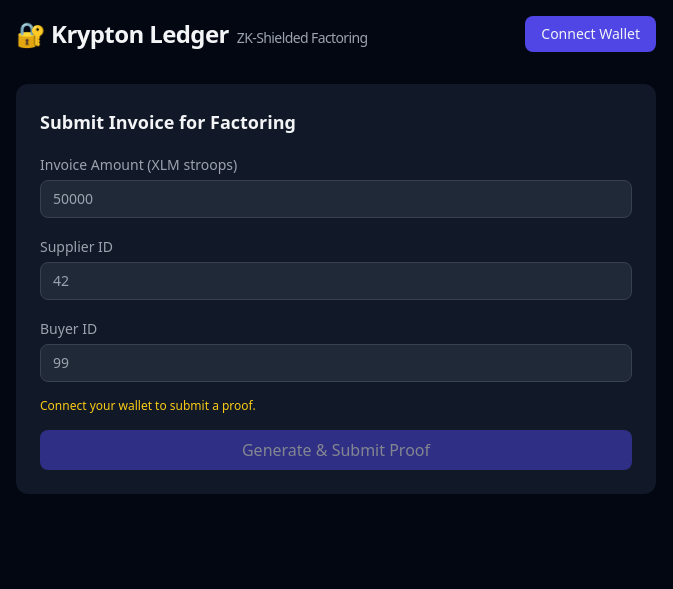
Test: DashboardPage › shows validation error for zero invoice amount
Click the button "Connect Wallet": [591, 34] box [525, 16, 656, 52]
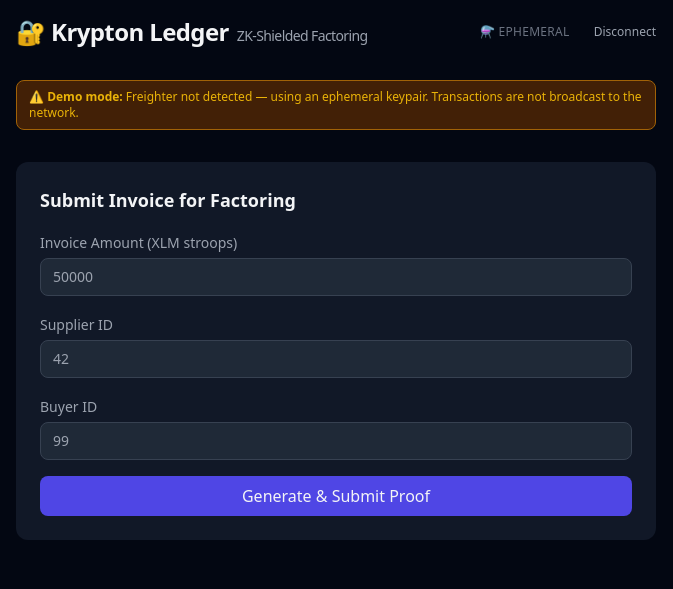
Now the button "Disconnect" is shown, box [594, 24, 656, 40]
In the field labelled "Invoice Amount (XLM stroops)": [336, 277] box [40, 258, 632, 296], type "0"
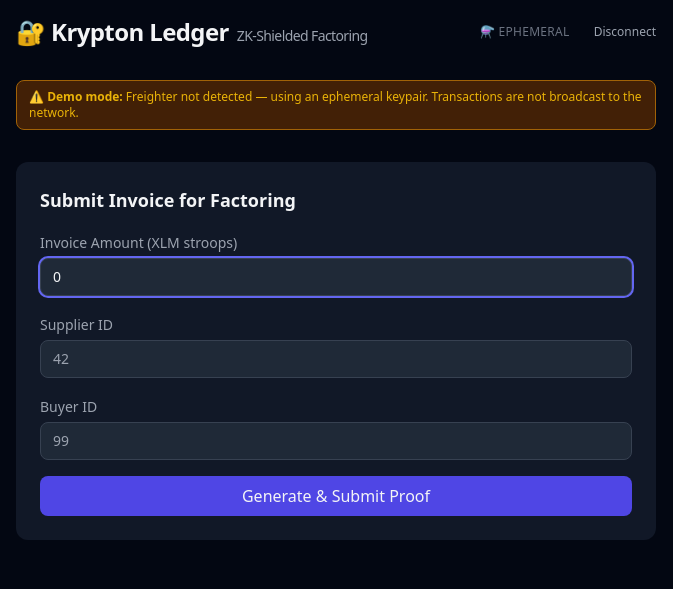
In the field labelled "Supplier ID": [336, 359] box [40, 340, 632, 378], type "1"
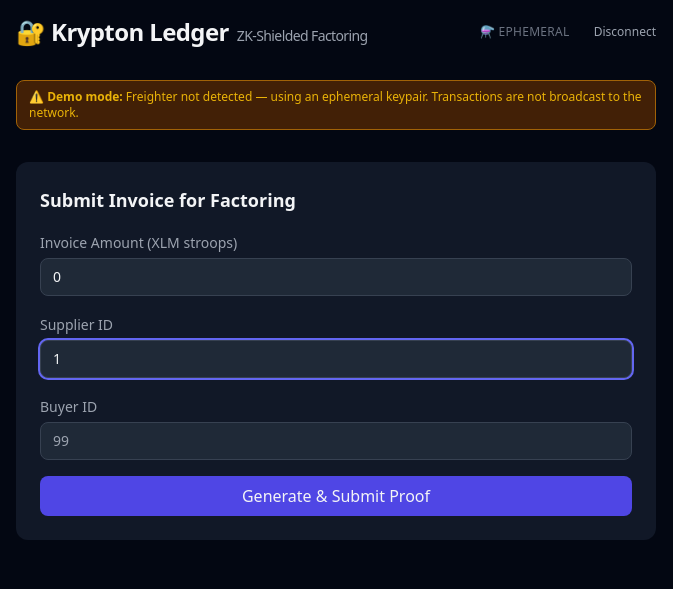
In the field labelled "Buyer ID": [336, 441] box [40, 422, 632, 460], type "1"
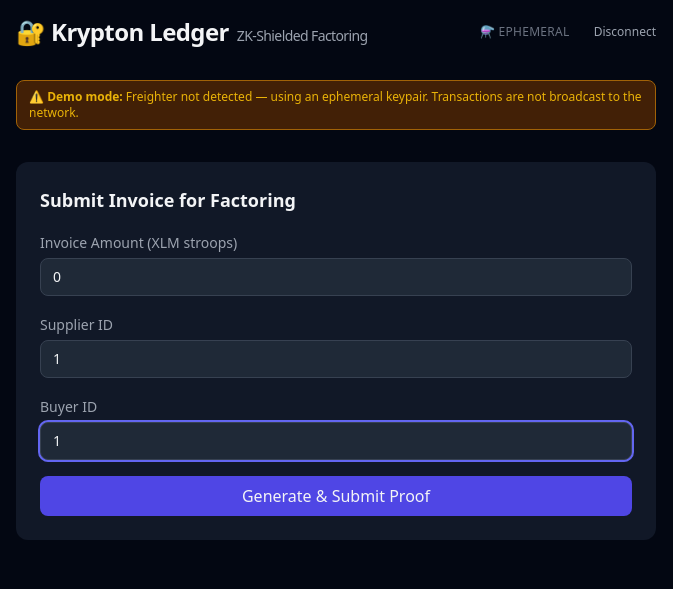
Click the button "Generate & Submit Proof": [336, 496] box [40, 476, 632, 516]
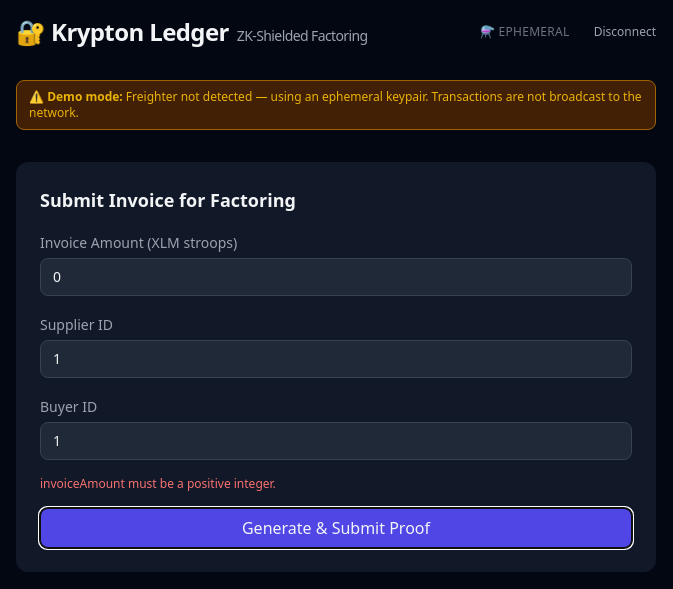
Now the text "invoiceAmount must be a positive integer." is shown, box [40, 475, 276, 492]
